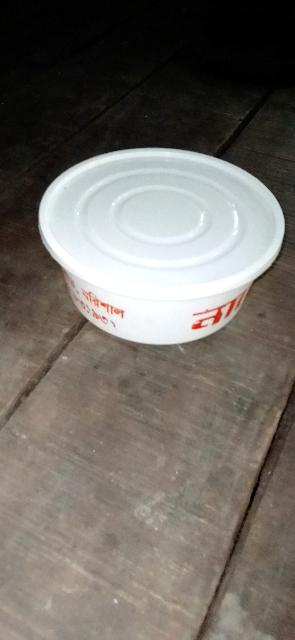hardplastic: (30, 117, 295, 378)
